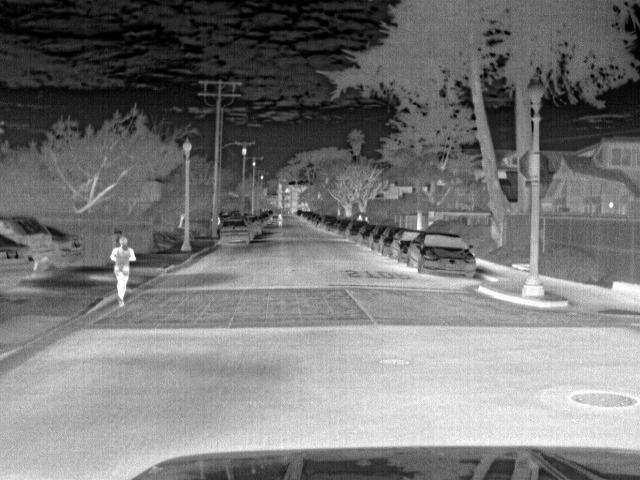car: (404, 229, 480, 280), (2, 215, 58, 272), (1, 230, 36, 289), (50, 224, 87, 262), (214, 218, 254, 246), (390, 228, 420, 260), (379, 226, 400, 254), (356, 223, 376, 246), (369, 225, 387, 247), (347, 220, 365, 241), (337, 218, 352, 236)
person: (111, 235, 139, 309)
